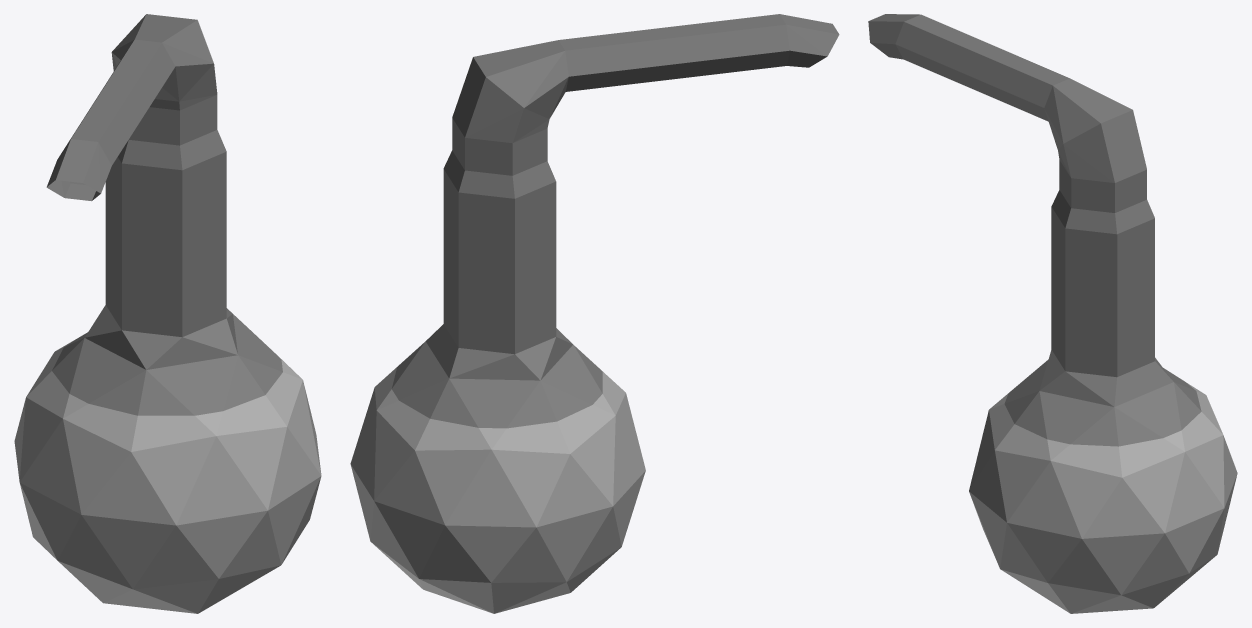
The model's file is alchemist_aparatus_749x02.gltf.
3 renders of one model, left to right at view 1: azimuth 30°, elevation 25°; view 2: azimuth 150°, elevation 25°; view 3: azimuth 270°, elevation 25°, orthographic. The views are drawn at different scales.
Visible parts, largest first — view 1: alchemist_aparatus_749x02; view 2: alchemist_aparatus_749x02; view 3: alchemist_aparatus_749x02.
Part boxes in pixels (x1,y1,x2,y2): alchemist_aparatus_749x02: (14, 14, 321, 613); alchemist_aparatus_749x02: (350, 14, 839, 613); alchemist_aparatus_749x02: (868, 14, 1237, 613).
Size of the model in its own units: 0.7126 by 1.07 by 0.7091.
2 materials, 2 textured.
